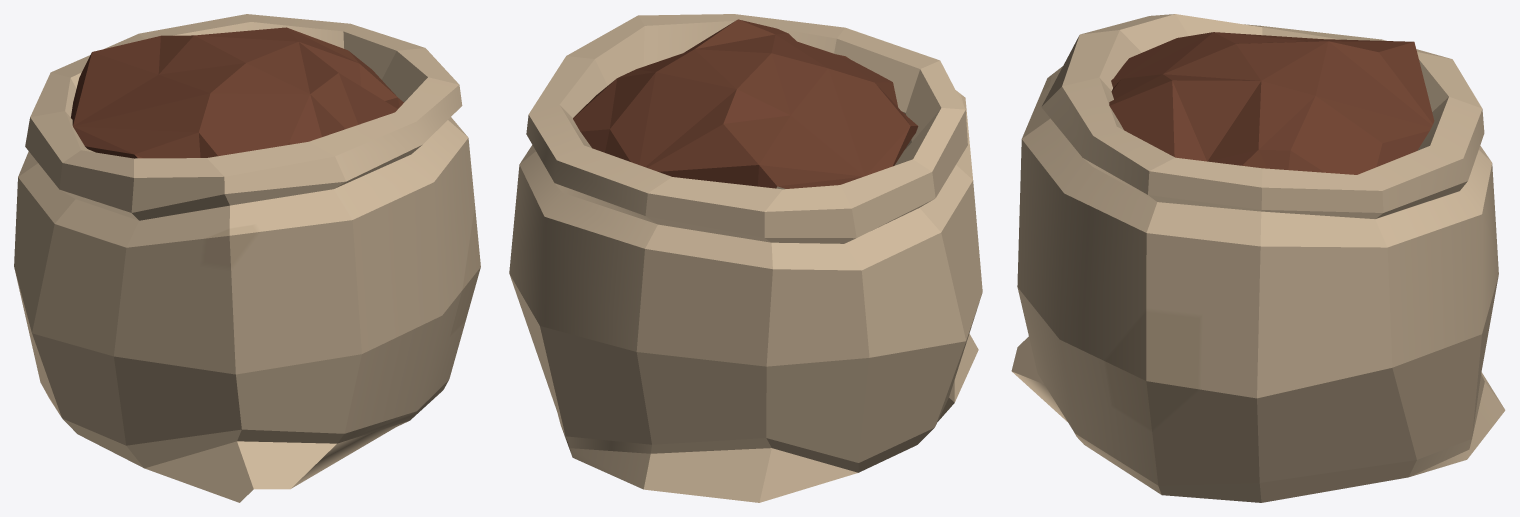
Rendered from SM_Prop_Sack_03.fbx.
3 renders of one model, left to right at view 1: azimuth 30°, elevation 25°; view 2: azimuth 150°, elevation 25°; view 3: azimuth 270°, elevation 25°, orthographic. The views are drawn at different scales.
Parts seen in each view (by area): view 1: SM_Prop_Sack_03; view 2: SM_Prop_Sack_03; view 3: SM_Prop_Sack_03.
Boxes of the visible parts, <box> form: SM_Prop_Sack_03: <box>14,14,480,502</box>; SM_Prop_Sack_03: <box>509,14,982,502</box>; SM_Prop_Sack_03: <box>1011,14,1505,502</box>.
Bounding box in the file's own units: 70.41 × 54.28 × 65.86.
